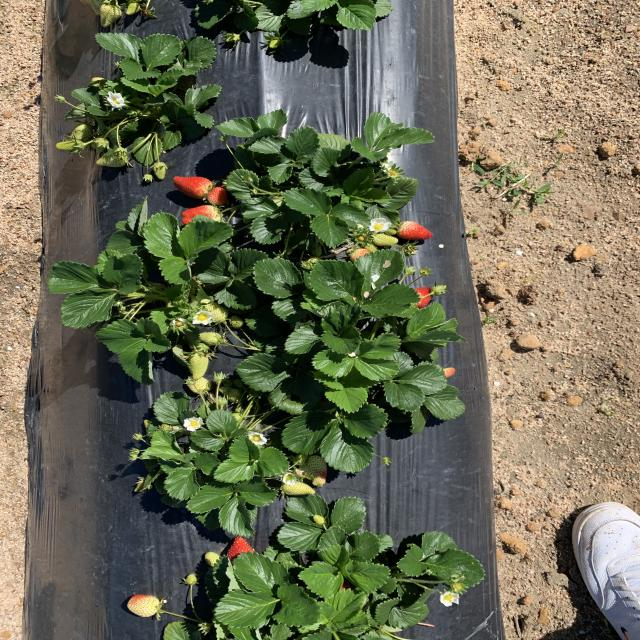unripe: (221, 537, 265, 569), (397, 285, 440, 311), (169, 174, 214, 197), (180, 205, 225, 226), (398, 219, 433, 241)
